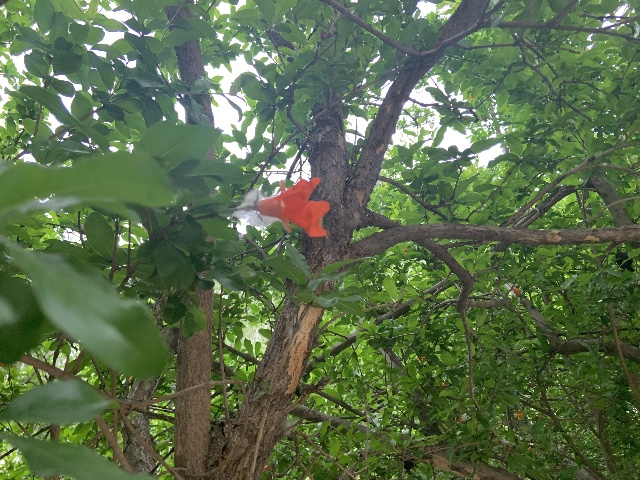bud: (513, 287, 520, 295)
flower: (256, 177, 330, 236), (514, 409, 523, 418)
